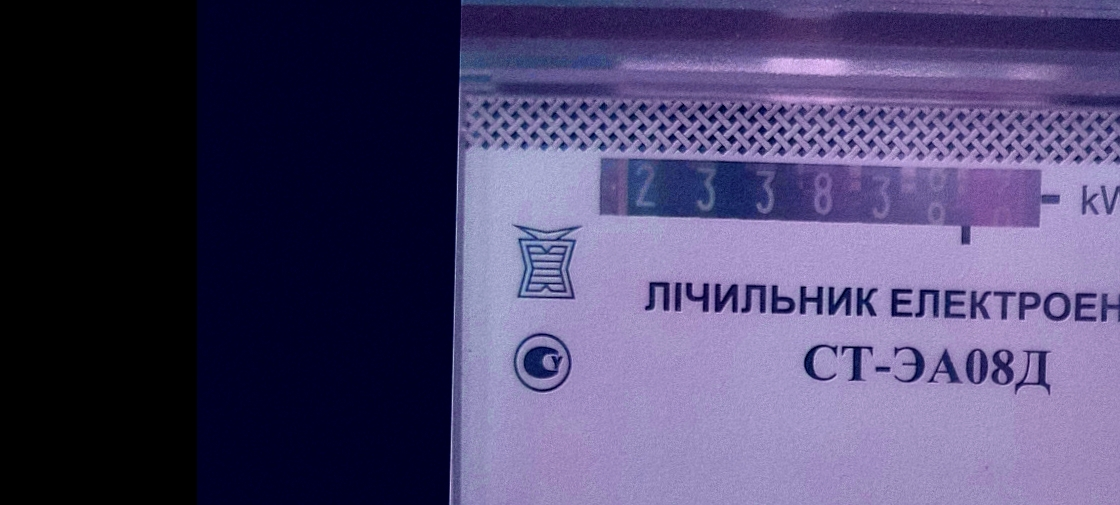0: (991, 203, 1017, 228)
2: (632, 160, 661, 210)
3: (693, 164, 721, 214), (754, 167, 780, 218), (869, 171, 896, 220)
8: (811, 169, 837, 216), (925, 166, 953, 193)
9: (924, 197, 951, 227), (992, 167, 1017, 196)
screen: (587, 146, 1061, 249)
